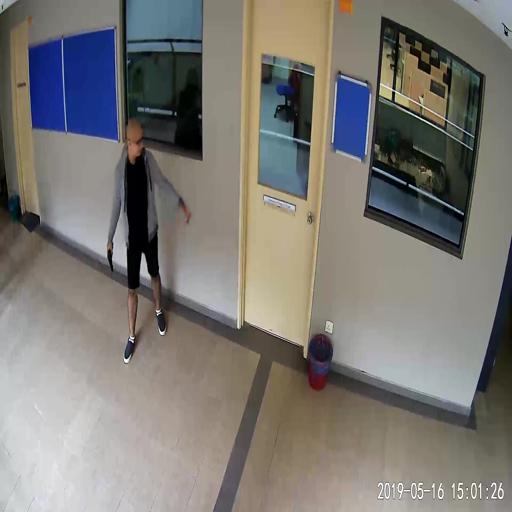pistol: (106, 241, 114, 271)
